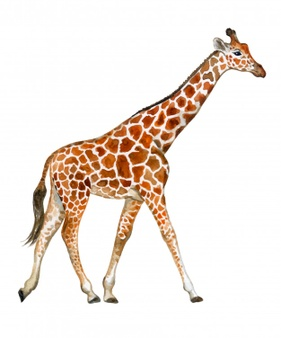Jirafa: (17, 23, 280, 314)
